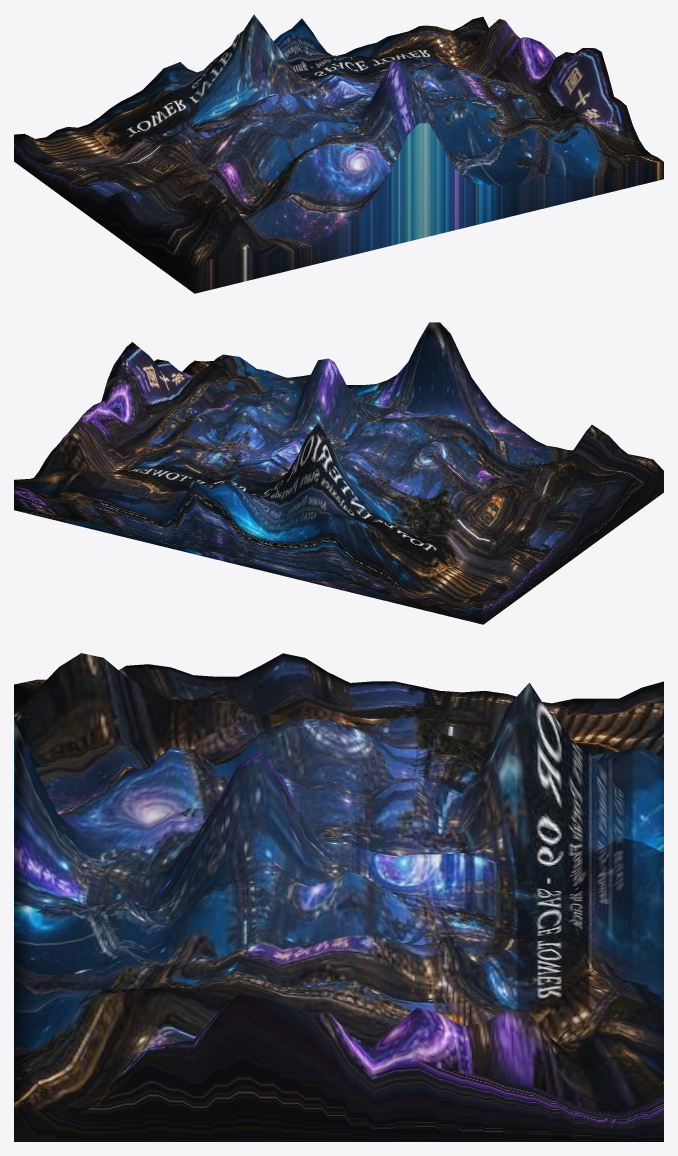
The model's file is TOWER_INT_09_Space_Tower.glb.
3 views of the same model, one above another, from view 1: azimuth 30°, elevation 25°; view 2: azimuth 150°, elevation 25°; view 3: azimuth 270°, elevation 25° (orthographic). The views are drawn at different scales.
Parts seen in each view (by area): view 1: TOWER_INT_09_Space_Tower; view 2: TOWER_INT_09_Space_Tower; view 3: TOWER_INT_09_Space_Tower.
Boxes of the visible parts, left/top/right/bottom form: TOWER_INT_09_Space_Tower: left=14, top=14, right=663, bottom=293; TOWER_INT_09_Space_Tower: left=14, top=322, right=663, bottom=624; TOWER_INT_09_Space_Tower: left=14, top=653, right=663, bottom=1141.
Bounding box in the file's own units: 2 × 0.51 × 1.33.
Materials: 1 (1 with a texture image).
